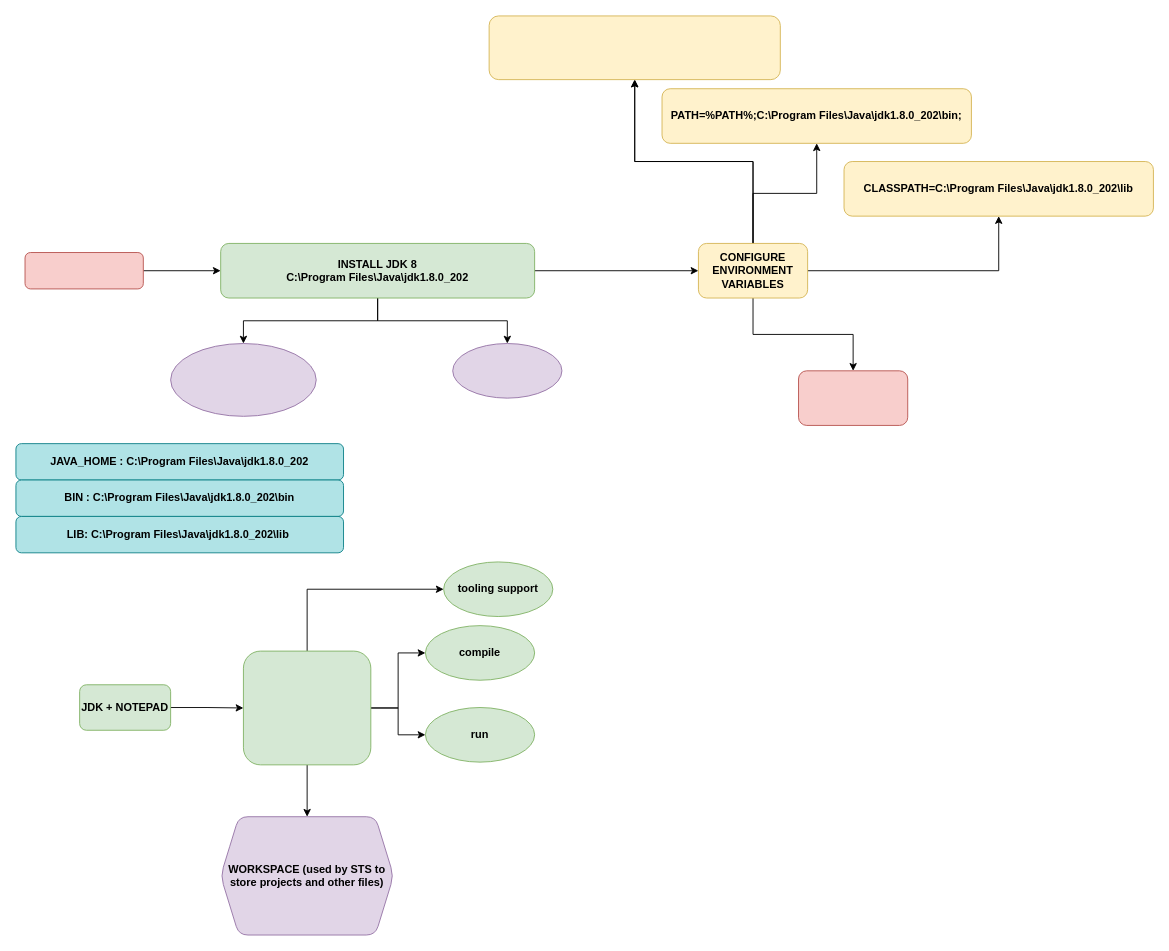
This 1169x951 diagram has some shape labels left out. Here are the shapes that lost their labels. From the top down, the centre of each, then its label:
(634,47): JAVA_HOME=C:\Program Files\Java\jdk1.8.0_202
(83,270): UNINSTALL
(243,379): BIN javac.exe (compile program) java.exe (run)
(507,370): LIB libraries (java archive (jar))
(853,397): TEST >javac >java
(307,707): STS (SPRING TOOL SUITE) (ECLIPSE)
